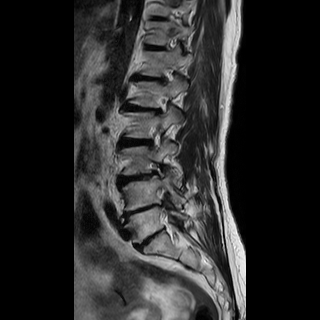LFS3: (145, 154, 173, 185)
